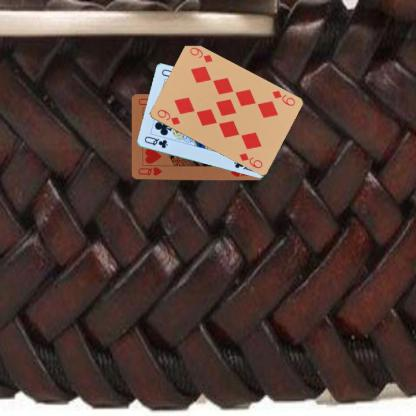9d: (154, 107, 182, 126), (270, 88, 297, 107)
Qc: (142, 134, 168, 150)
Qh: (135, 164, 163, 176)
